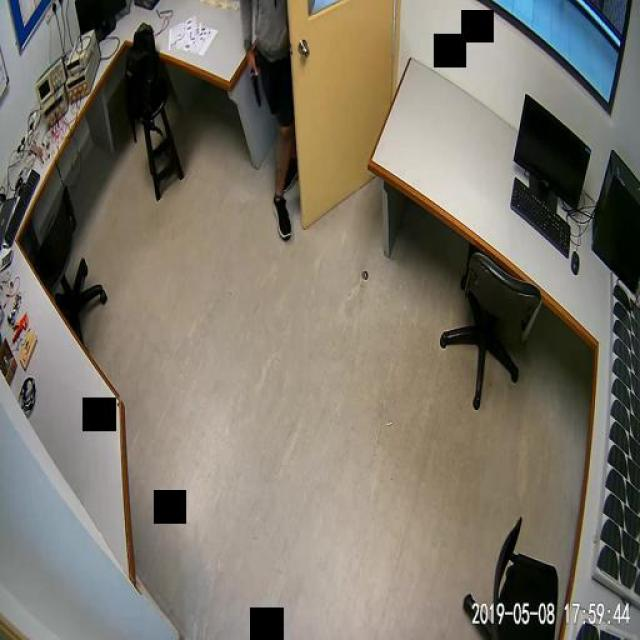gun: (246, 54, 260, 108)
